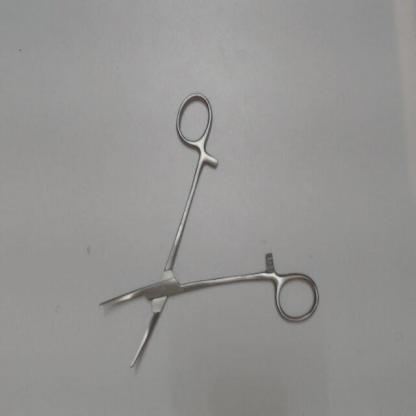Crile Artery Forceps: (92, 84, 323, 379)
